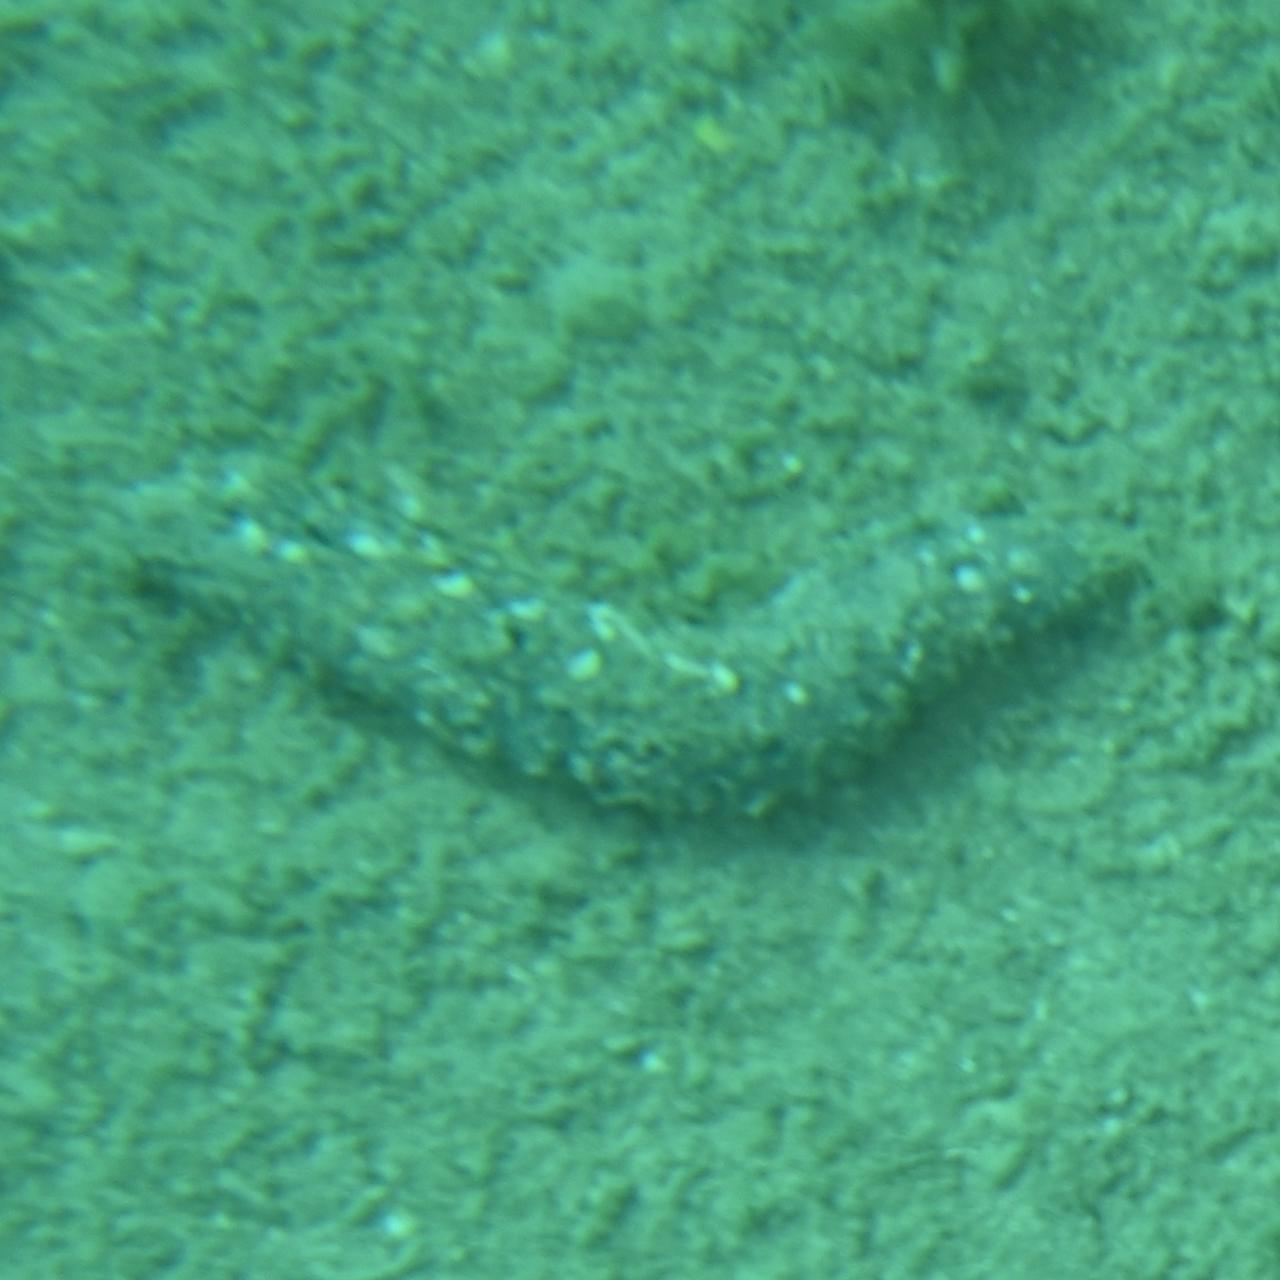Holothuria tubulosa: (123, 433, 1157, 847)
